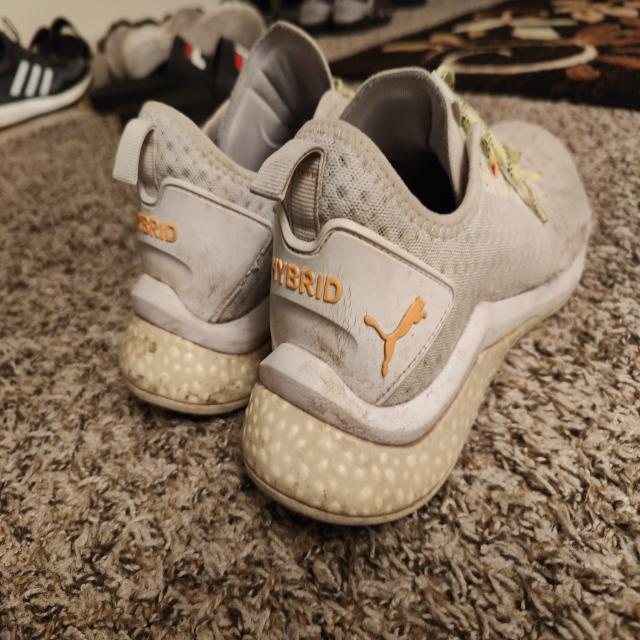white shoes: (116, 107, 585, 514)
